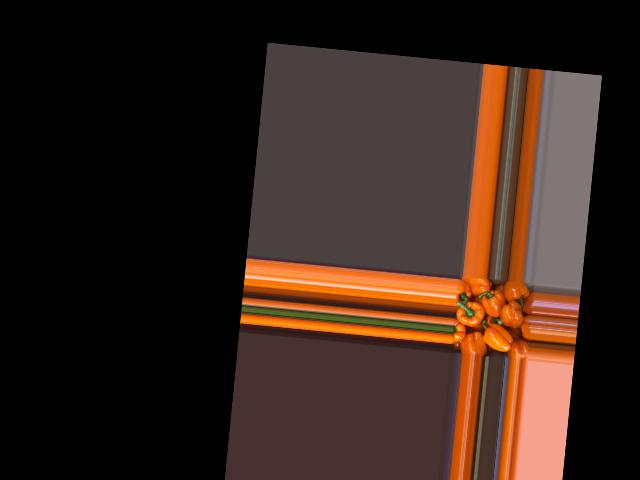bell_pepper: (515, 288, 535, 320)
